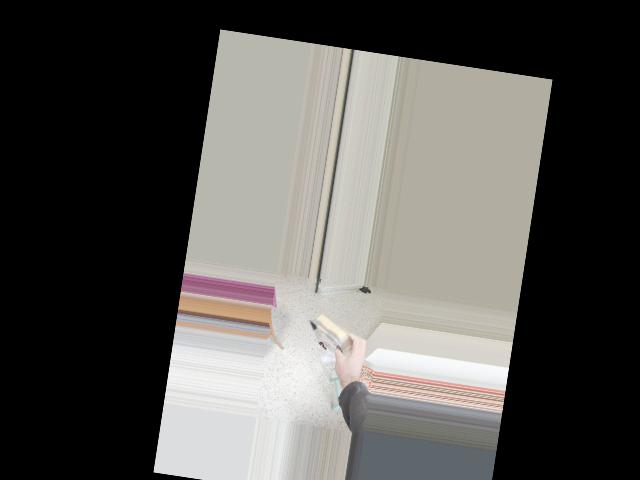cheese: (294, 302, 378, 372)
